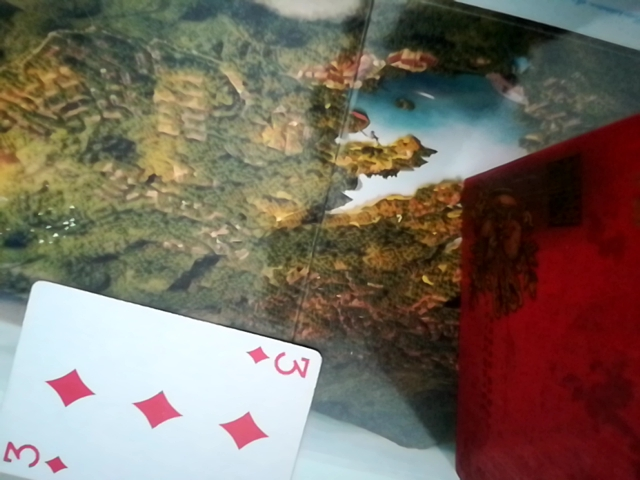fk 3: (1, 278, 331, 480)
